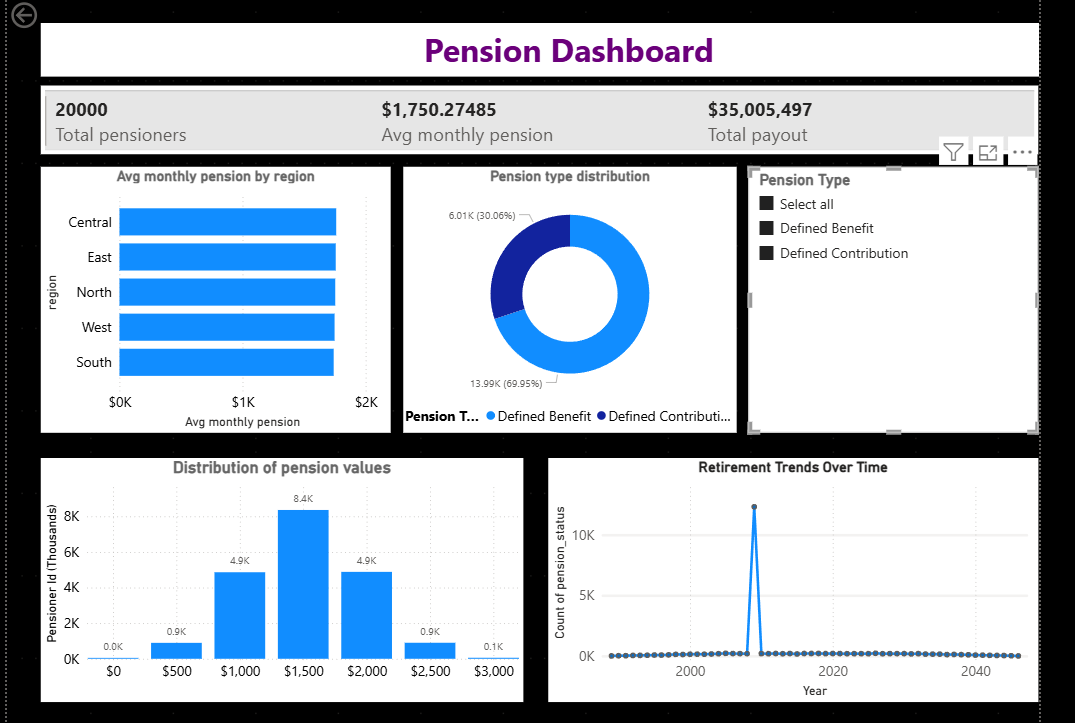

What the dashboard file says about the page in this screenshot:
{"tool":"powerbi","page":{"name":"Page 1","canvas":[1200,850],"ordinal":0},"visuals":[{"type":"textbox","box":[39.3,29.1,1229.1,62.5],"z":0},{"type":"multiRowCard","fields":{"Values":["cleaned_pensions.name","cleaned_pensions.monthly_pension","Sum(cleaned_pensions.monthly_pension)1"]},"box":[39.3,101.8,1160.7,80],"z":1000},{"type":"actionButton","box":[0,0,100,40],"z":2000},{"type":"clusteredBarChart","fields":{"Category":["cleaned_pensions.region"],"Y":["cleaned_pensions.monthly_pension"]},"box":[39.3,196.4,407.3,309.8],"z":3000},{"type":"donutChart","title":"Pension type distribution","fields":{"Category":["cleaned_pensions.pension_type"],"Y":["cleaned_pensions.pensioner_id"]},"box":[461.1,196.4,388.4,309.8],"z":4000},{"type":"lineChart","title":"Retirement Trends Over Time","fields":{"Y":["cleaned_pensions.pension_status"],"Category":["cleaned_pensions.retirement_date.Variation.Date Hierarchy.Year"]},"box":[629.8,535.3,570.2,283.6],"z":5000},{"type":"clusteredColumnChart","title":"Distribution of pension values","fields":{"Category":["cleaned_pensions.monthly_pension (bins)"],"Y":["cleaned_pensions.pensioner_id"]},"box":[39.3,535.3,561.5,283.6],"z":6000},{"type":"slicer","fields":{"Values":["cleaned_pensions.pension_type"]},"box":[862.5,196.4,337.5,309.8],"z":7000}]}

Visuals, with their boxes in screenshot pixels (x1, y1, x2, y2):
textbox: {"x1": 34, "y1": 17, "x2": 1074, "y2": 71}
multiRowCard - cleaned_pensions.name x cleaned_pensions.monthly_pension: {"x1": 34, "y1": 80, "x2": 1043, "y2": 150}
actionButton: {"x1": 0, "y1": 0, "x2": 87, "y2": 26}
clusteredBarChart - cleaned_pensions.region x cleaned_pensions.monthly_pension: {"x1": 34, "y1": 162, "x2": 388, "y2": 431}
"Pension type distribution" donutChart: {"x1": 401, "y1": 162, "x2": 738, "y2": 431}
"Retirement Trends Over Time" lineChart: {"x1": 547, "y1": 457, "x2": 1043, "y2": 703}
"Distribution of pension values" clusteredColumnChart: {"x1": 34, "y1": 457, "x2": 522, "y2": 703}
slicer - cleaned_pensions.pension_type: {"x1": 749, "y1": 162, "x2": 1043, "y2": 431}
